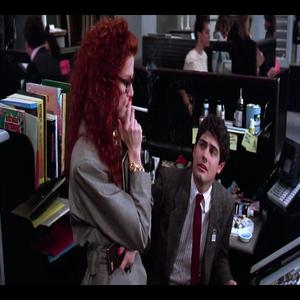cigarette: (125, 101, 150, 114)
